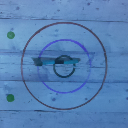Axe Tip: (32, 57, 43, 61)
